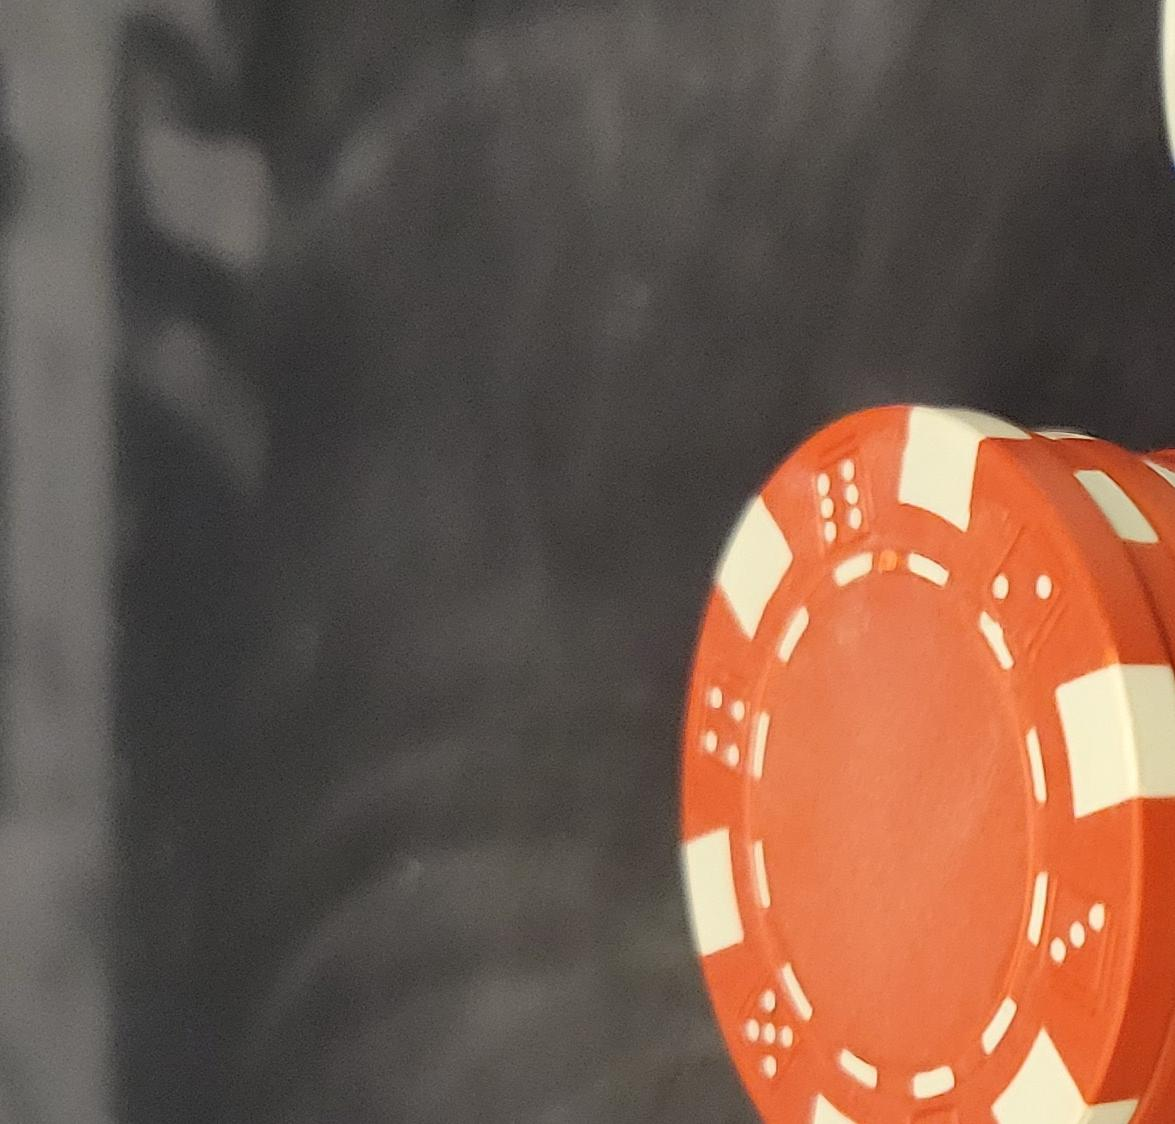Chip: (1, 207, 777, 1124)
